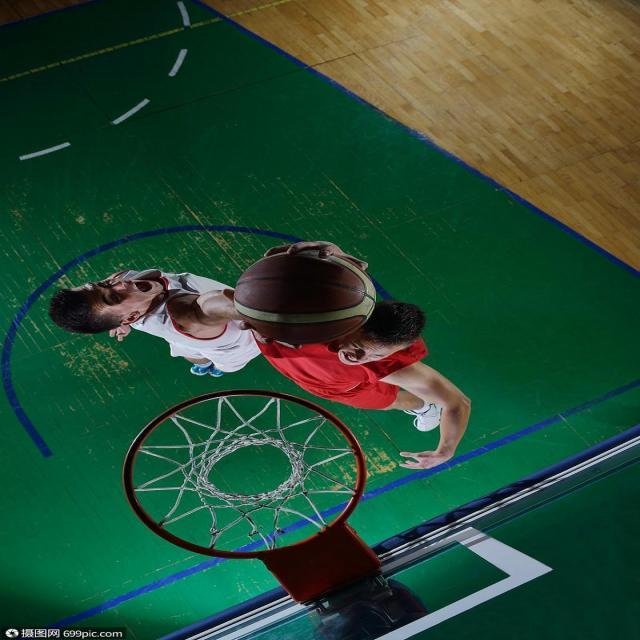rim: (234, 247, 376, 343)
